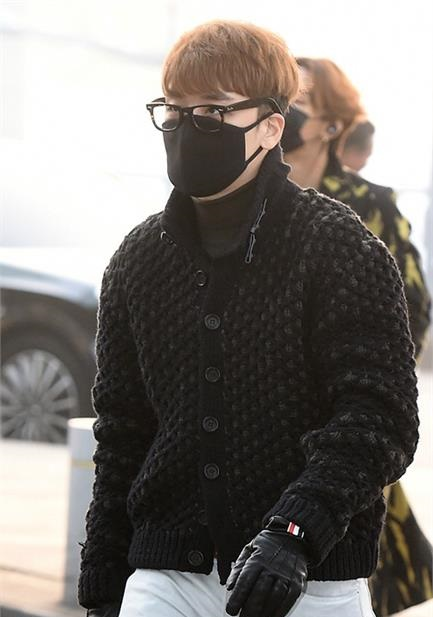face_mask: (167, 60, 257, 195), (270, 71, 321, 162)
